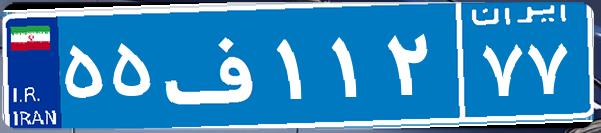1: (273, 28, 330, 110), (330, 28, 385, 110)
2: (385, 28, 445, 110)
5: (57, 26, 110, 107), (110, 28, 158, 105)
7: (475, 38, 525, 113), (525, 38, 570, 115)
ف: (158, 15, 273, 115)
